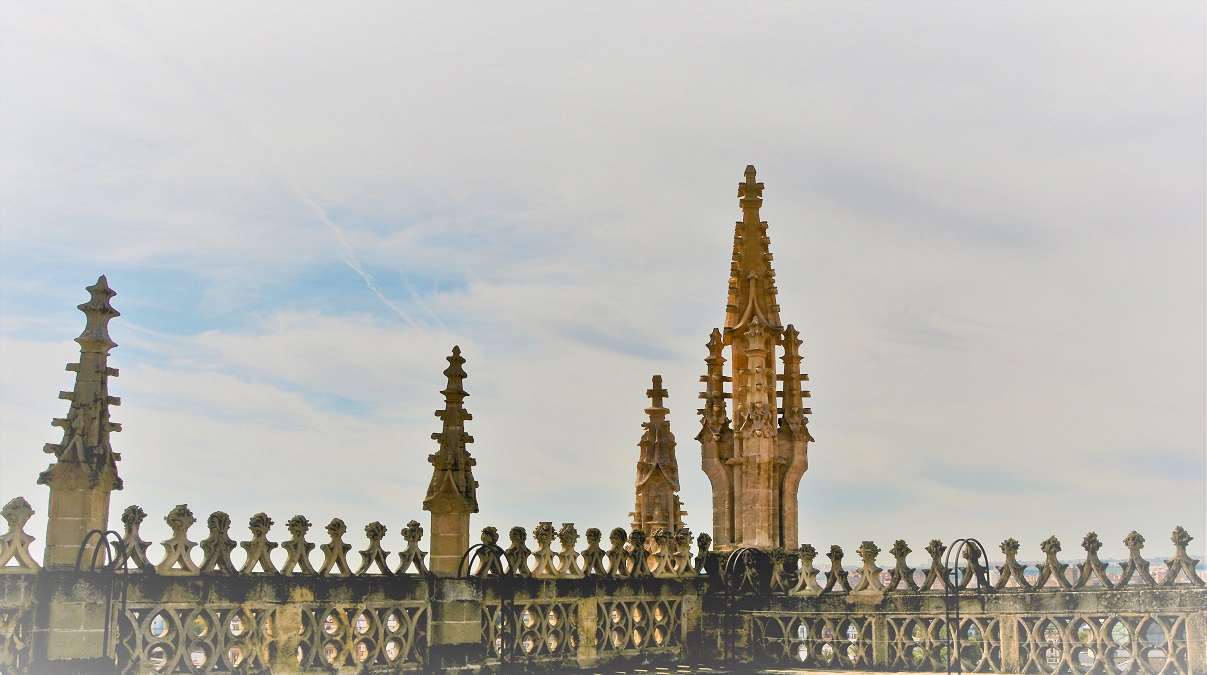pinaculo-gotico: (32, 271, 132, 499), (711, 155, 793, 350), (415, 336, 488, 523), (628, 362, 689, 512)
